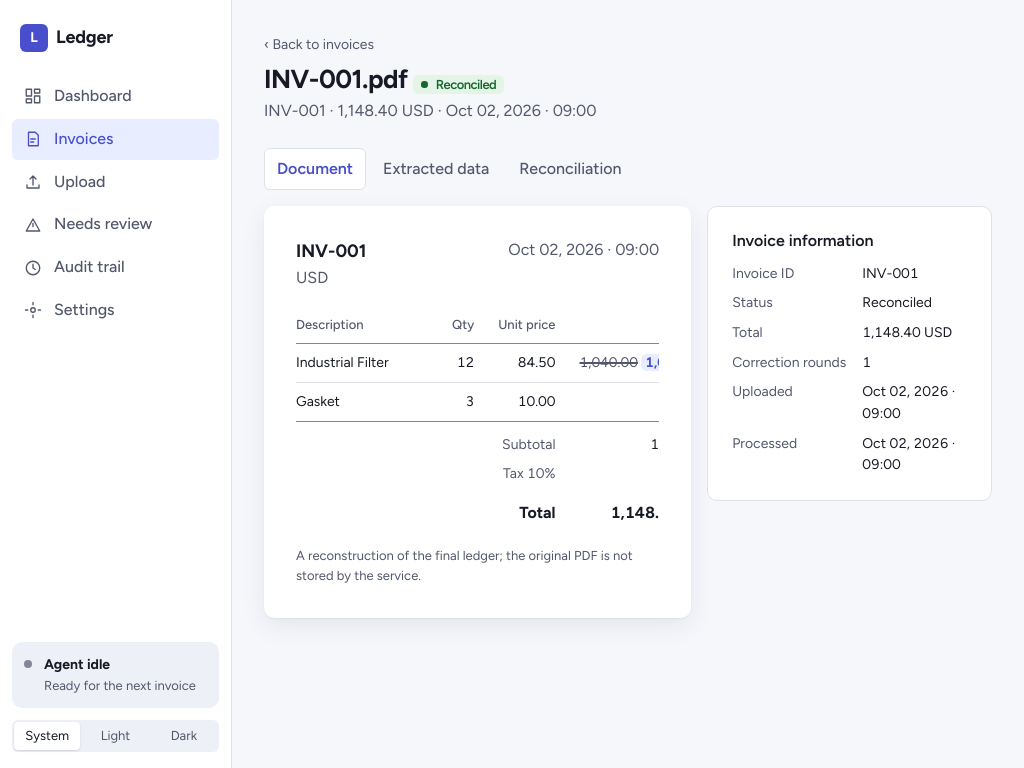
Test: InvoiceDetailView › switches tabs through the URL
Click the tab "Extracted data" at (436, 169), box [370, 148, 502, 190]
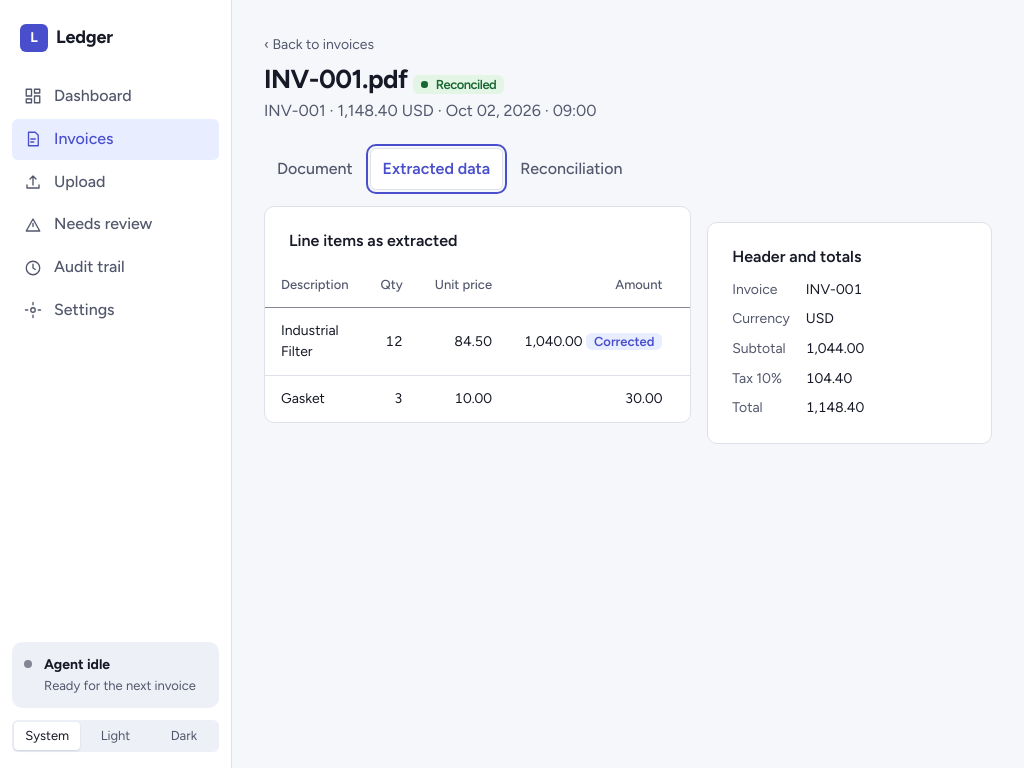
Check: the table named "Extracted line items" is shown, box [265, 263, 690, 422]
Check: the text "Corrected" is shown, box [586, 333, 662, 350]
